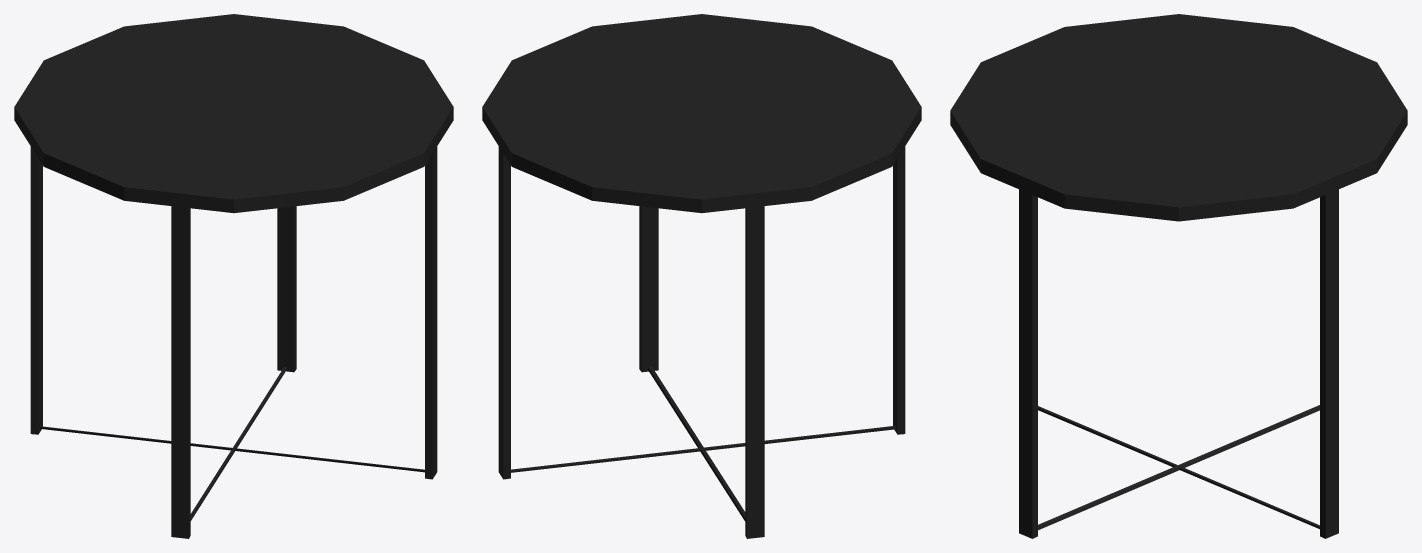
Rendered from smalltable.gltf.
3 renders of one model, left to right at view 1: azimuth 30°, elevation 25°; view 2: azimuth 150°, elevation 25°; view 3: azimuth 270°, elevation 25°, orthographic. The views are drawn at different scales.
Parts seen in each view (by area): view 1: Cube; view 2: Cube; view 3: Cube.
Part boxes in pixels (bbox=[...]): Cube: bbox=[14, 14, 453, 538]; Cube: bbox=[482, 14, 921, 538]; Cube: bbox=[950, 14, 1407, 538].
Bounding box in the file's own units: 0.3877 × 0.3372 × 0.3877.
Materials: 1 (1 with a texture image).
